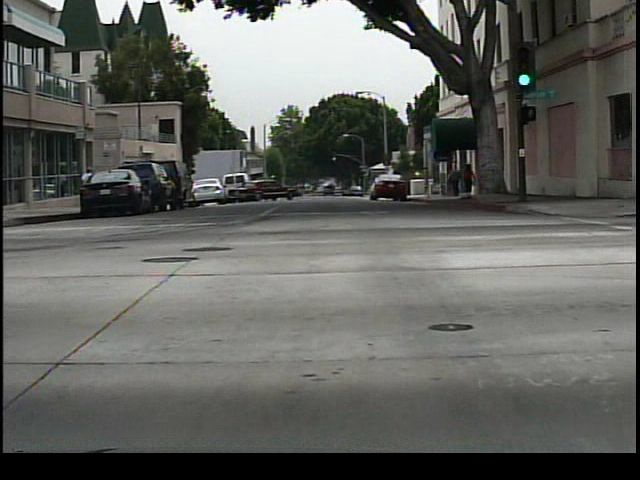person: (77, 160, 103, 207), (445, 168, 465, 202), (462, 159, 479, 197)
